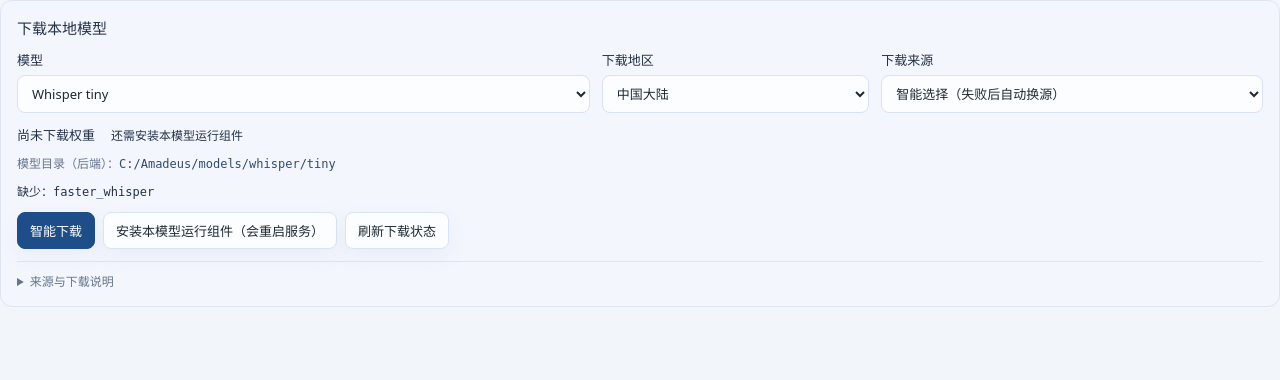
Scenario: local model download UI › refreshes the new backend URL after installing an extra causes its port to change
Click the button "安装本模型运行组件（会重启服务）" at (220, 230), box [103,212,337,249]
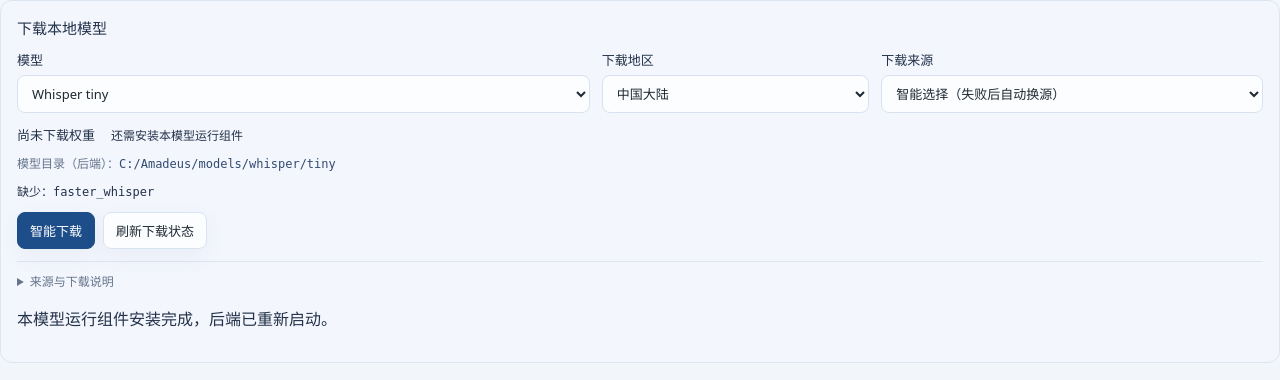
Check: the text "本模型运行组件安装完成，后端已重新启动。" is shown, box [17,308,337,330]
